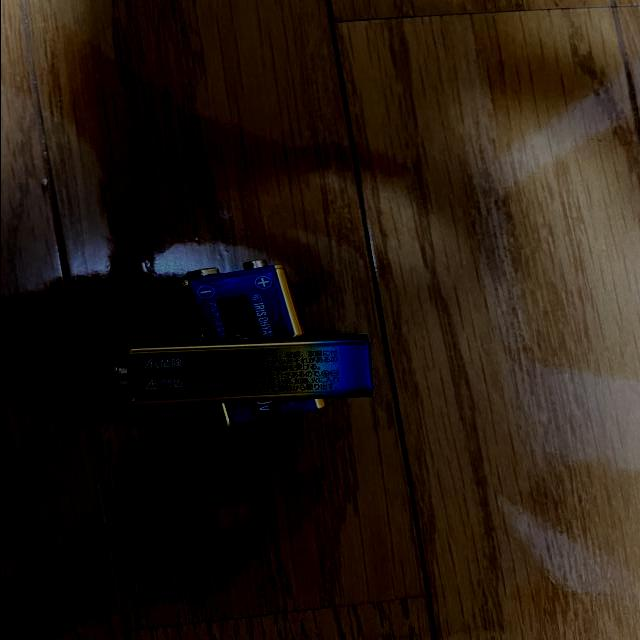9V: (175, 259, 325, 429), (113, 332, 373, 407)
